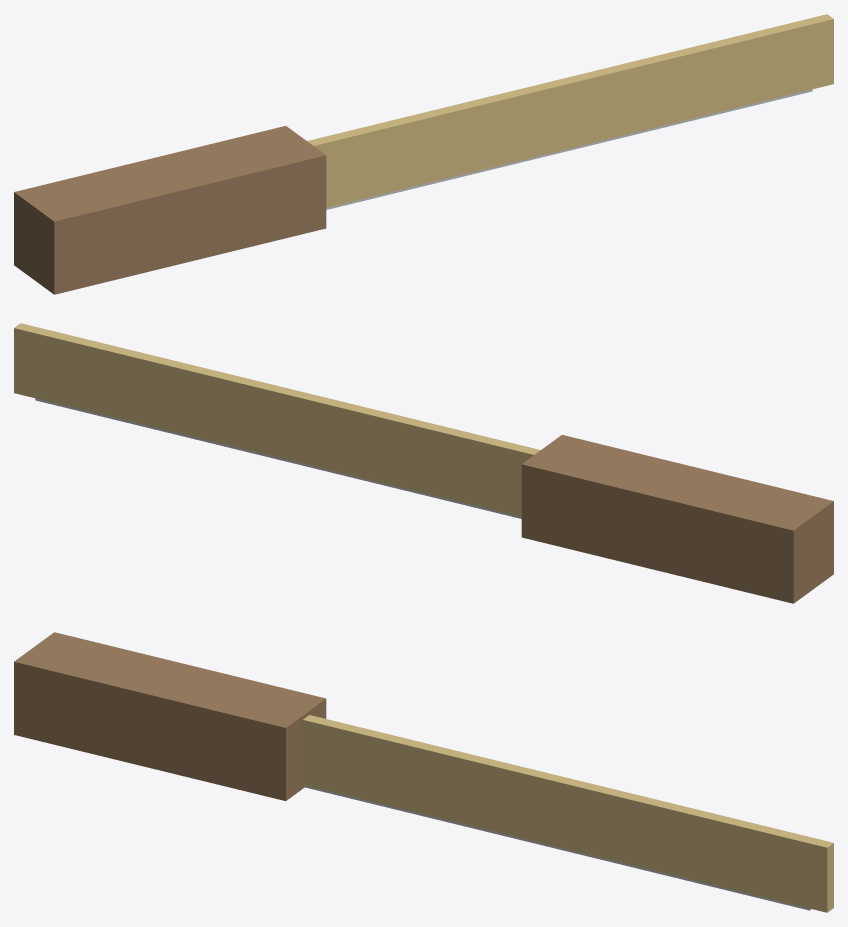
File: prop-tooth-saw-cbm1.fbx
3 views of the same model, one above another, from view 1: azimuth 30°, elevation 25°; view 2: azimuth 150°, elevation 25°; view 3: azimuth 330°, elevation 25° (orthographic).
Visible parts, largest first — view 1: prop-tooth-saw-cbm1; view 2: prop-tooth-saw-cbm1; view 3: prop-tooth-saw-cbm1.
Boxes of the visible parts, <box> form: prop-tooth-saw-cbm1: <box>14,14,833,294</box>; prop-tooth-saw-cbm1: <box>14,323,833,603</box>; prop-tooth-saw-cbm1: <box>14,632,833,912</box>.
Size of the model in its own units: 20.5 by 1.8 by 1.8.
